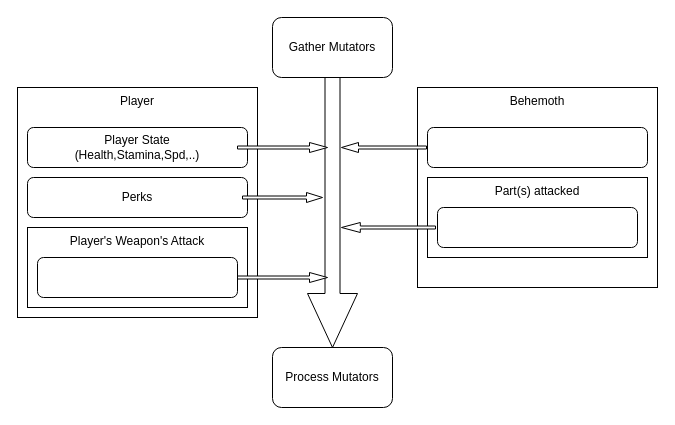
This 675x425 diagram has some shape labels left out. The shapes that lost their labels are listed below. From the top down, each one's centre as x and y in pixels, then its label:
At pixel 537 147: "Behemoth State (Element, Health, Flags, ..)".
At pixel 537 227: "Part State (Type, Broken, Wounded, ..)".
At pixel 137 277: "Weapon State (Type, Element, Atk Baseline,..)".
